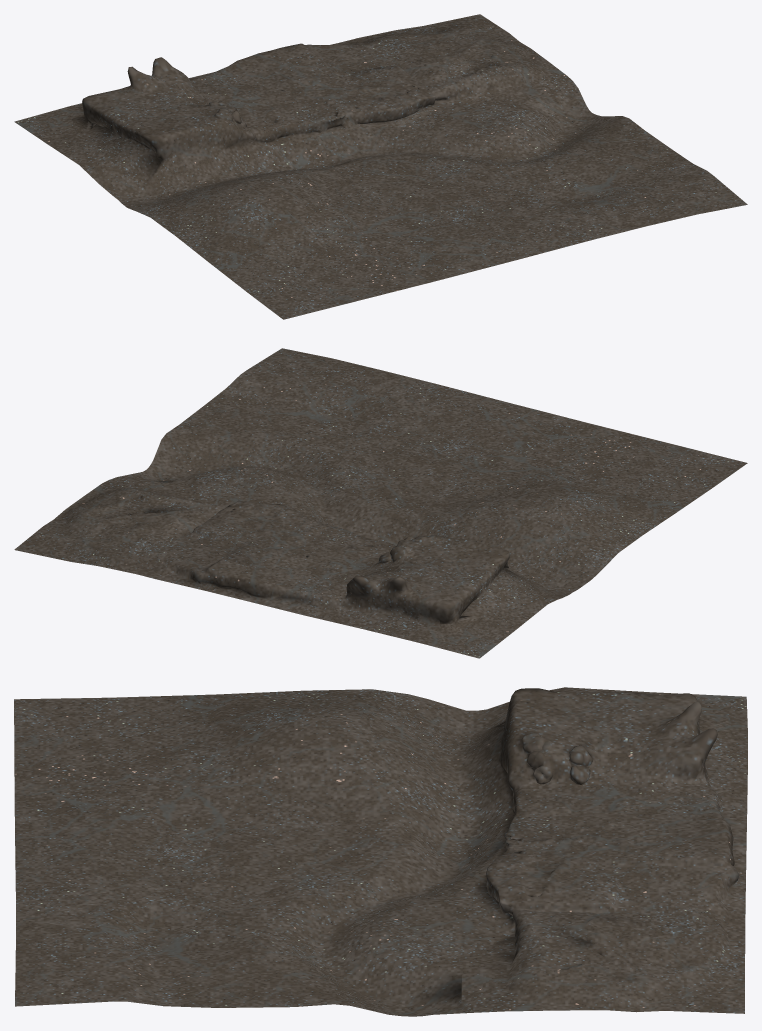
The model's file is dodaiRight.fbx.
The picture shows the model from 3 angles, top to bottom: view 1: azimuth 30°, elevation 25°; view 2: azimuth 150°, elevation 25°; view 3: azimuth 270°, elevation 25°; orthographic projection. The views are drawn at different scales.
Parts seen in each view (by area): view 1: Dodai_left; view 2: Dodai_left; view 3: Dodai_left.
Part boxes in pixels (<box>): Dodai_left: <box>14,14,747,319</box>; Dodai_left: <box>14,348,747,658</box>; Dodai_left: <box>14,687,747,1016</box>.
Bounding box in the file's own units: 101 × 12.6 × 100.
1 material, 1 textured.
